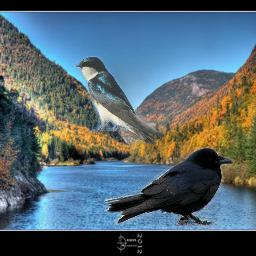Crow: (105, 147, 233, 226)
Swallow: (75, 56, 166, 144)
